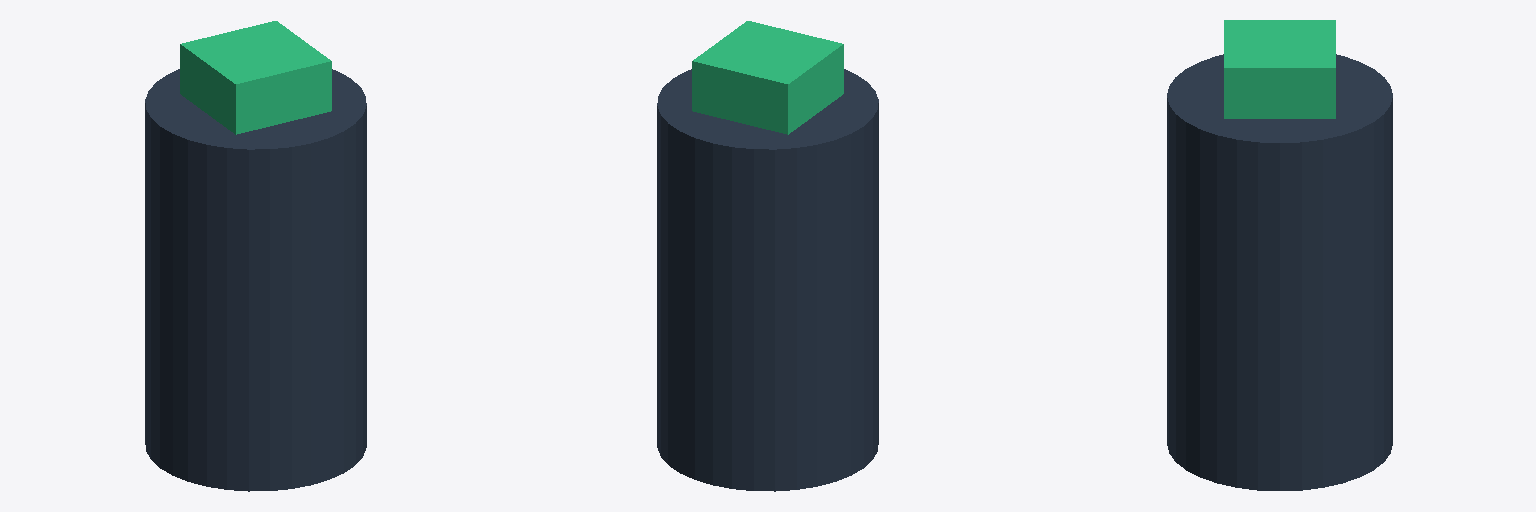
robot.urdf — test_mesh:
<?xml version="1.0"?>
<!--
  test_mesh — minimal 2-joint model that exercises the STL mesh path
  of the web viewer. Load it at:
      http://127.0.0.1:8081/?model=test_mesh
  The blue column comes from primitives; the cube at the "shoulder"
  is meshes/sample_cube.stl (0.1 m, binary STL).

  NOTE: this is NOT the solver's chain — it exists to prove that mesh
  files load and render. A model with a different joint topology will
  render at the FK frames it happens to have (the viewer maps
  link_i -> frames[i-1]), so treat it as a visual test only.
-->
<robot name="test_mesh">

  <link name="base_link">
    <visual>
      <origin xyz="0 0 0.17" rpy="0 0 0"/>
      <geometry>
        <cylinder length="0.34" radius="0.10"/>
      </geometry>
      <material name="pedestal">
        <color rgba="0.235 0.290 0.361 1"/>
      </material>
    </visual>
  </link>

  <joint name="joint1" type="revolute">
    <parent link="base_link"/>
    <child link="link1"/>
    <origin xyz="0 0 0" rpy="0 0 0"/>
    <axis xyz="0 0 1"/>
    <limit lower="-3.14159" upper="3.14159" effort="100" velocity="2.17"/>
  </joint>

  <link name="link1">
    <visual>
      <origin xyz="0 0 0.17" rpy="0 0 0"/>
      <geometry>
        <box size="0.08 0.08 0.34"/>
      </geometry>
      <material name="link_blue">
        <color rgba="0.302 0.639 1 1"/>
      </material>
    </visual>
  </link>

  <joint name="joint2" type="revolute">
    <parent link="link1"/>
    <child link="link2"/>
    <origin xyz="0 0 0.34" rpy="-1.5707963 0 0"/>
    <axis xyz="0 0 1"/>
    <limit lower="-2.09" upper="2.09" effort="100" velocity="2.17"/>
  </joint>

  <!-- mesh link: STL cube at the shoulder pivot -->
  <link name="link2">
    <visual>
      <origin xyz="0 0 0" rpy="0 0 0"/>
      <geometry>
        <mesh filename="meshes/sample_cube.stl" scale="1 1 1"/>
      </geometry>
      <material name="mesh_green">
        <color rgba="0.243 0.812 0.557 1"/>
      </material>
    </visual>
  </link>

</robot>

--- Render facts (derived) ---
3 views of the same robot in one strip: view 1: azimuth 30°, elevation 25°; view 2: azimuth 150°, elevation 25°; view 3: azimuth 270°, elevation 25° (orthographic).
Robot: test_mesh — 3 links, 2 joints (2 revolute); root link base_link; default pose: all joints at 0.
Links seen in each view (by area): view 1: base_link, link2; view 2: base_link, link2; view 3: base_link, link2.
Boxes of the visible links, x1,y1,x2,y2 form: base_link: [145, 69, 366, 491]; link2: [180, 21, 331, 134]; base_link: [657, 69, 878, 491]; link2: [692, 21, 843, 134]; base_link: [1167, 54, 1392, 490]; link2: [1224, 20, 1335, 118].
Size in the robot's own frame: 0.2 by 0.2 by 0.39 metres.
1 mesh visuals loaded from 1 distinct referenced files (1 binary STL).
